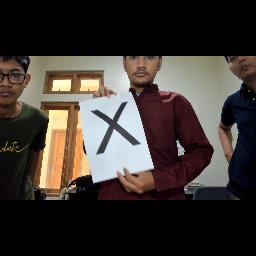x: (86, 98, 148, 158)
